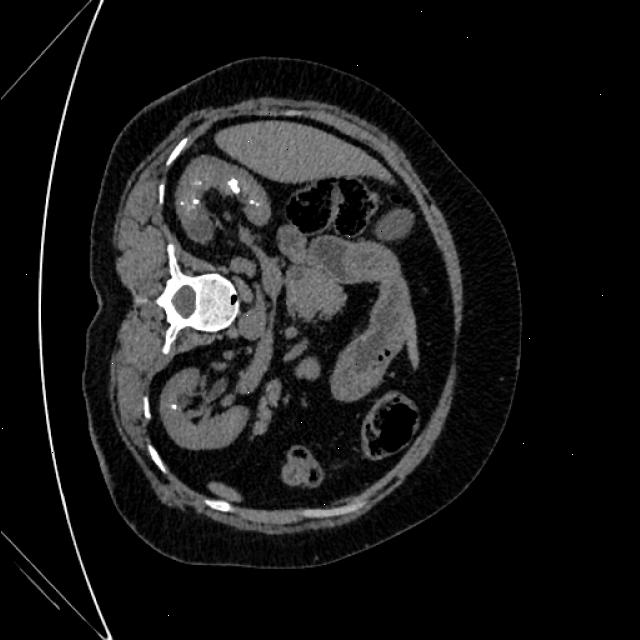kidneystone: (227, 178, 239, 194)
